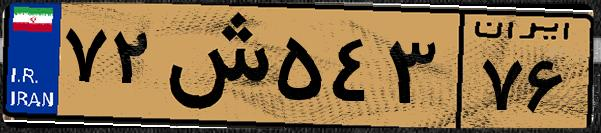2: (110, 28, 158, 98)
3: (385, 28, 445, 110)
4: (330, 28, 385, 110)
5: (270, 28, 330, 110)
6: (525, 38, 570, 115)
7: (57, 26, 110, 100), (475, 38, 525, 113)
ش: (158, 12, 270, 120)
